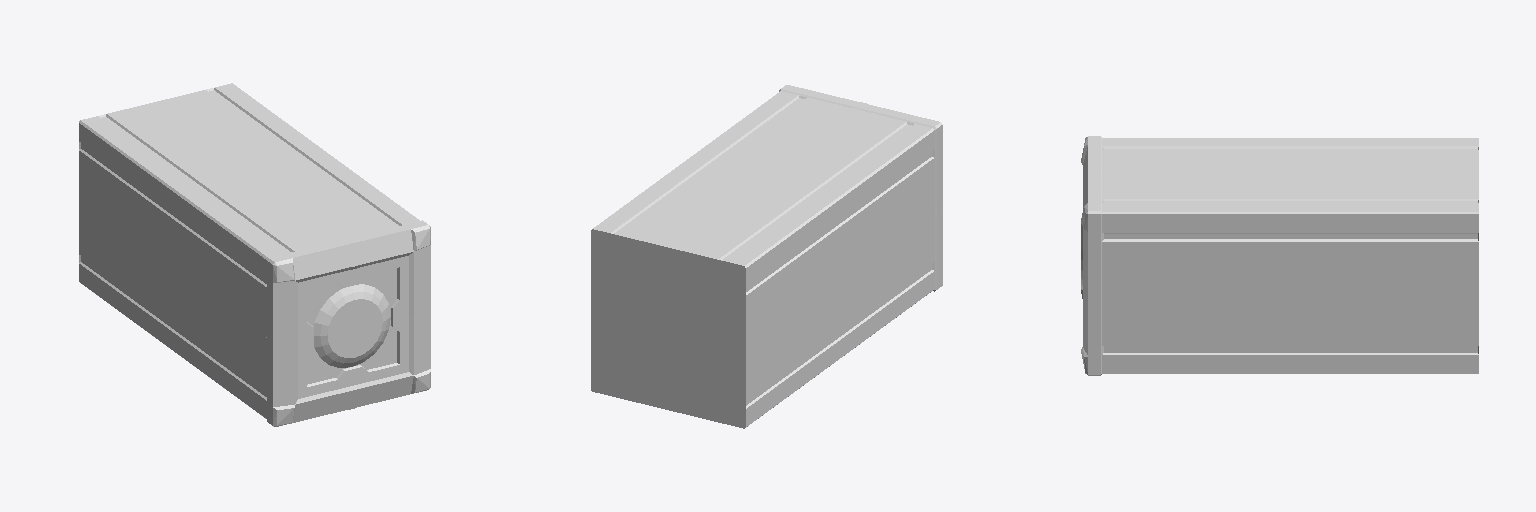
The model's file is stg600_obj_pushblock.obj.
The picture shows the model from 3 angles: view 1: azimuth 30°, elevation 25°; view 2: azimuth 150°, elevation 25°; view 3: azimuth 270°, elevation 25°; orthographic projection.
Parts seen in each view (by area): view 1: polygon3, polygon1, polygon7, polygon4, polygon2, polygon6, polygon0; view 2: polygon3, polygon5, polygon1, polygon7, polygon4, polygon0; view 3: polygon3, polygon1, polygon7, polygon4, polygon0.
Part boxes in pixels (bbox=[...]): polygon3: bbox=[79, 88, 401, 400]; polygon1: bbox=[79, 83, 430, 426]; polygon7: bbox=[142, 102, 430, 414]; polygon4: bbox=[79, 180, 408, 398]; polygon2: bbox=[273, 229, 430, 422]; polygon6: bbox=[313, 277, 389, 375]; polygon0: bbox=[267, 220, 427, 426]; polygon3: bbox=[611, 95, 934, 408]; polygon5: bbox=[591, 229, 745, 428]; polygon1: bbox=[593, 91, 934, 426]; polygon7: bbox=[669, 102, 942, 321]; polygon4: bbox=[746, 279, 808, 373]; polygon0: bbox=[779, 85, 942, 291]; polygon3: bbox=[1102, 146, 1478, 354]; polygon1: bbox=[1081, 137, 1478, 374]; polygon7: bbox=[1081, 156, 1474, 353]; polygon4: bbox=[1353, 271, 1478, 319]; polygon0: bbox=[1088, 136, 1101, 375].
Size of the model in its own units: 45.89 by 45.89 by 99.88.